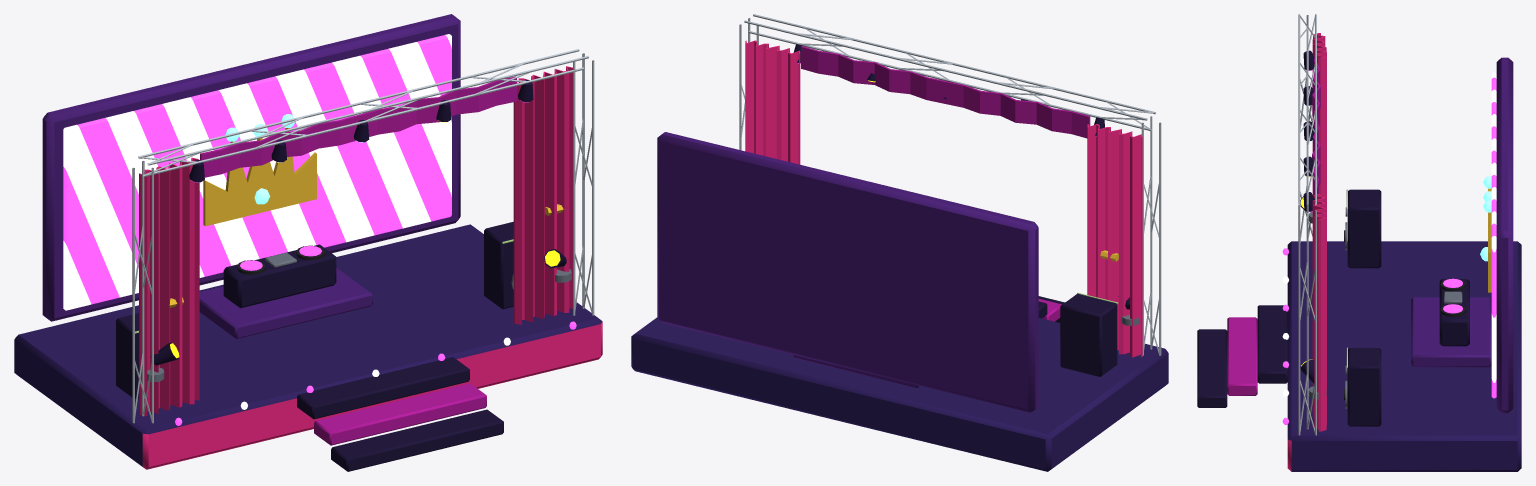
File: W6_Stage.fbx
The picture shows the model from 3 angles, left to right: view 1: azimuth 30°, elevation 25°; view 2: azimuth 150°, elevation 25°; view 3: azimuth 270°, elevation 25°; orthographic projection. The views are drawn at different scales.
Parts seen in each view (by area): view 1: Static; view 2: Static; view 3: Static.
Part boxes in pixels (bbox=[...]): Static: bbox=[14, 14, 602, 471]; Static: bbox=[631, 14, 1168, 471]; Static: bbox=[1197, 14, 1521, 471].
Size of the model in its own units: 14.02 by 8.78 by 9.7.
